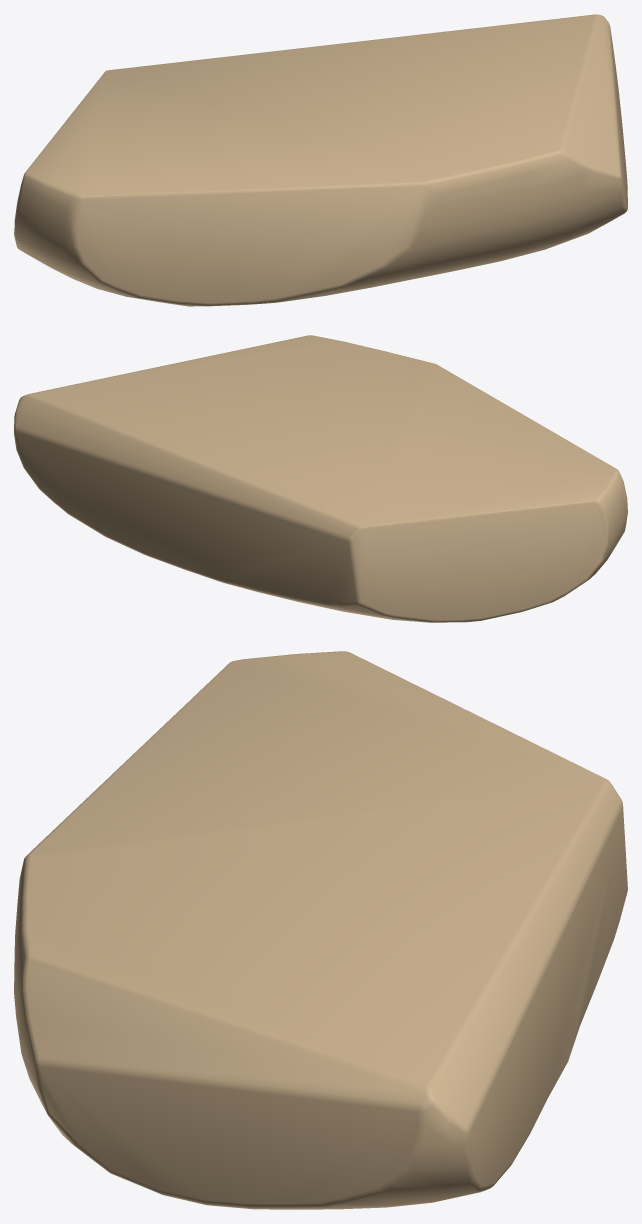
The model's file is rock_slab_02.glb.
3 renders of one model, top to bottom at view 1: azimuth 30°, elevation 25°; view 2: azimuth 150°, elevation 25°; view 3: azimuth 270°, elevation 25°, orthographic. The views are drawn at different scales.
Parts seen in each view (by area): view 1: rock_slab_02; view 2: rock_slab_02; view 3: rock_slab_02.
Boxes of the visible parts, left/top/right/bottom form: rock_slab_02: left=14, top=14, right=627, bottom=306; rock_slab_02: left=14, top=335, right=627, bottom=622; rock_slab_02: left=14, top=651, right=627, bottom=1209.
Bounding box in the file's own units: 2.5 × 0.5337 × 1.47.
